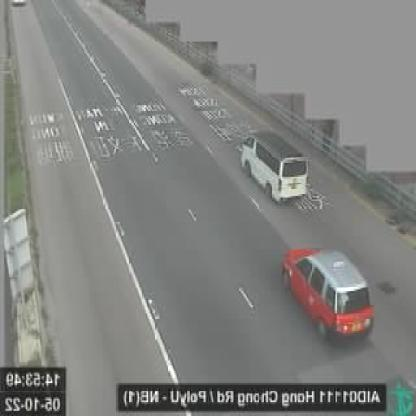Car: (283, 246, 373, 333), (242, 134, 309, 200)
